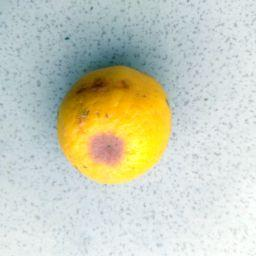Unripe: (57, 65, 171, 184)
